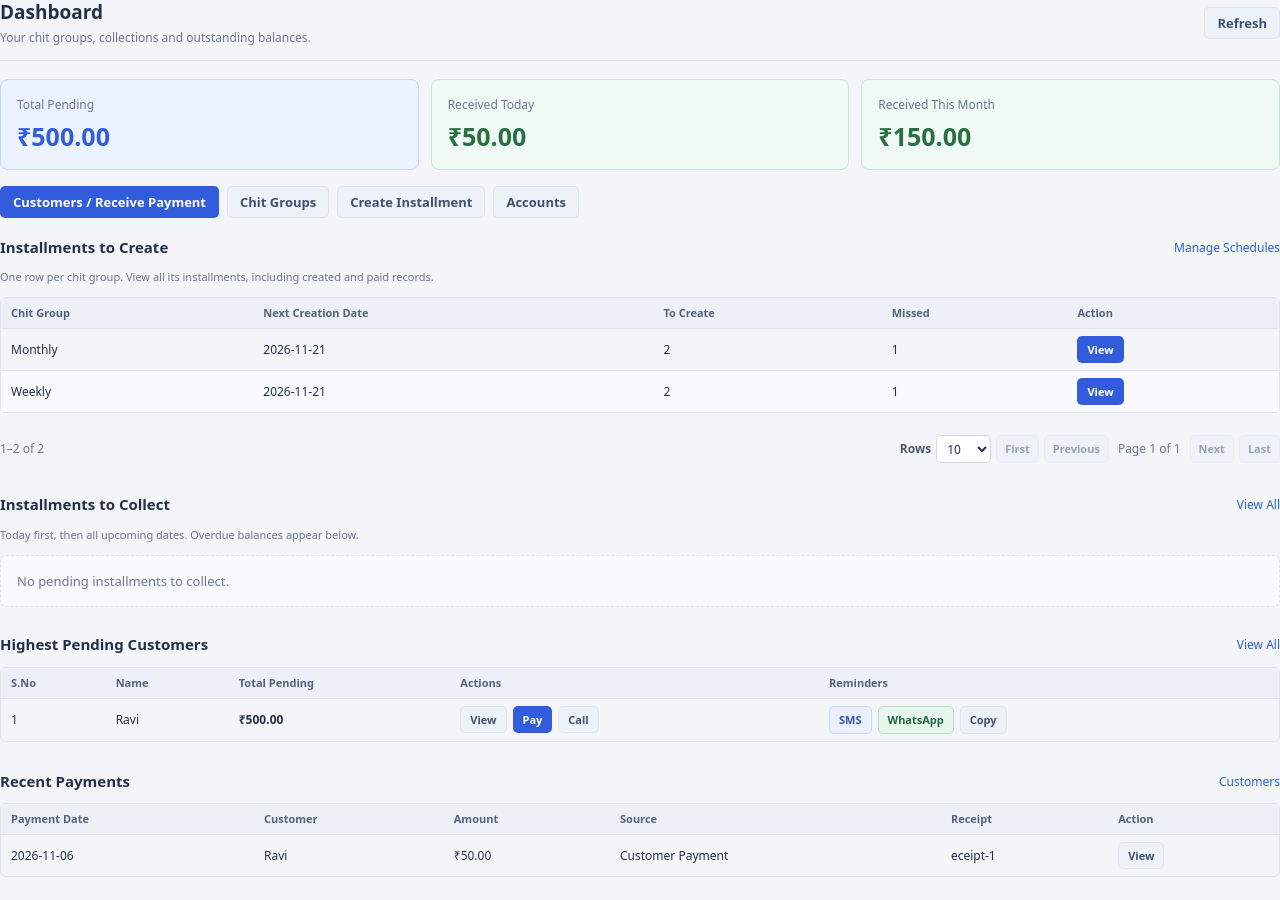
Scenario: switching groups shows only the selected group with local pagination
Click the button with aria-label "View installments for Weekly" at coordinates (1101, 392), box [1078, 378, 1124, 405]
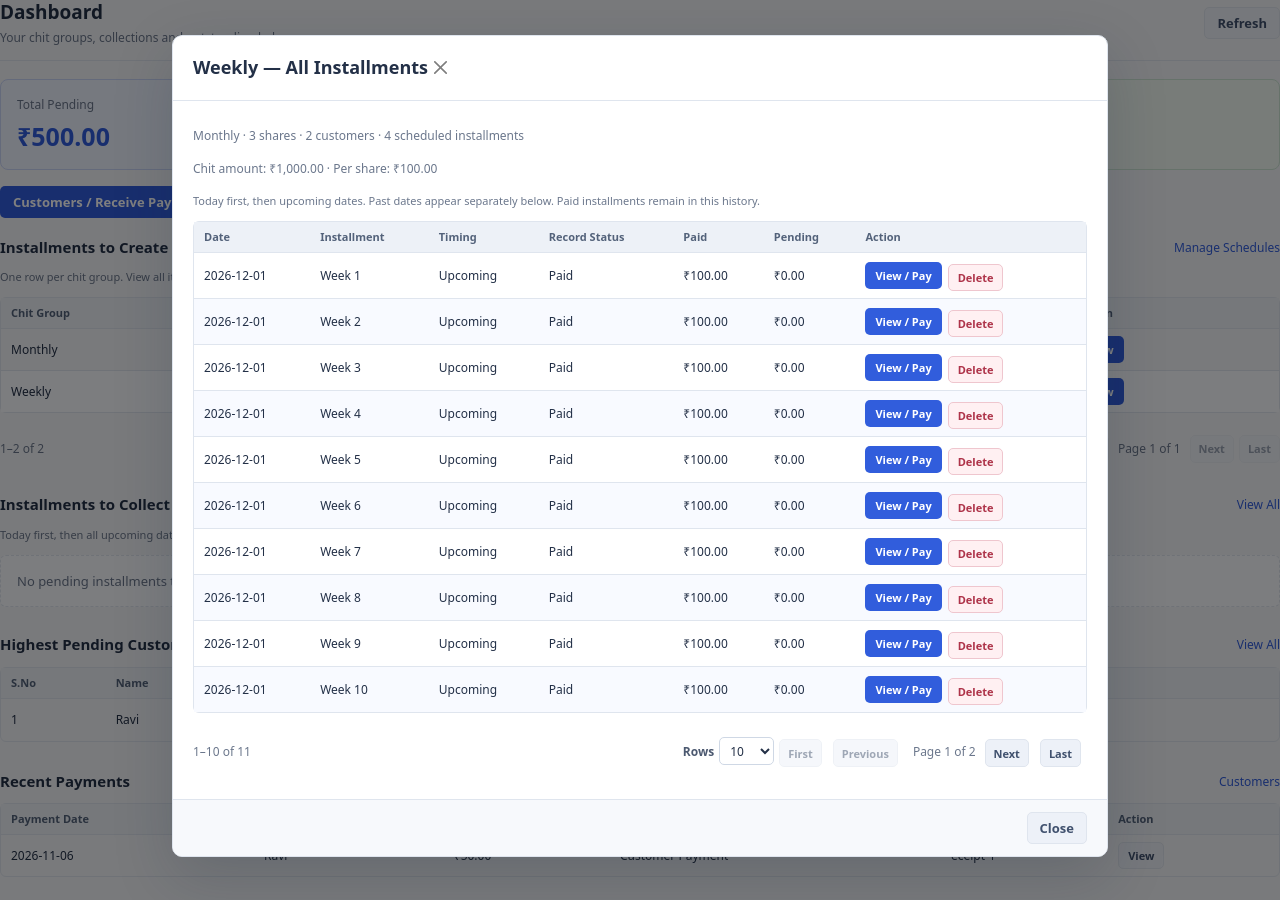
Click the button with aria-label "Group installments: next page" at coordinates (1007, 753), box [984, 739, 1029, 767]
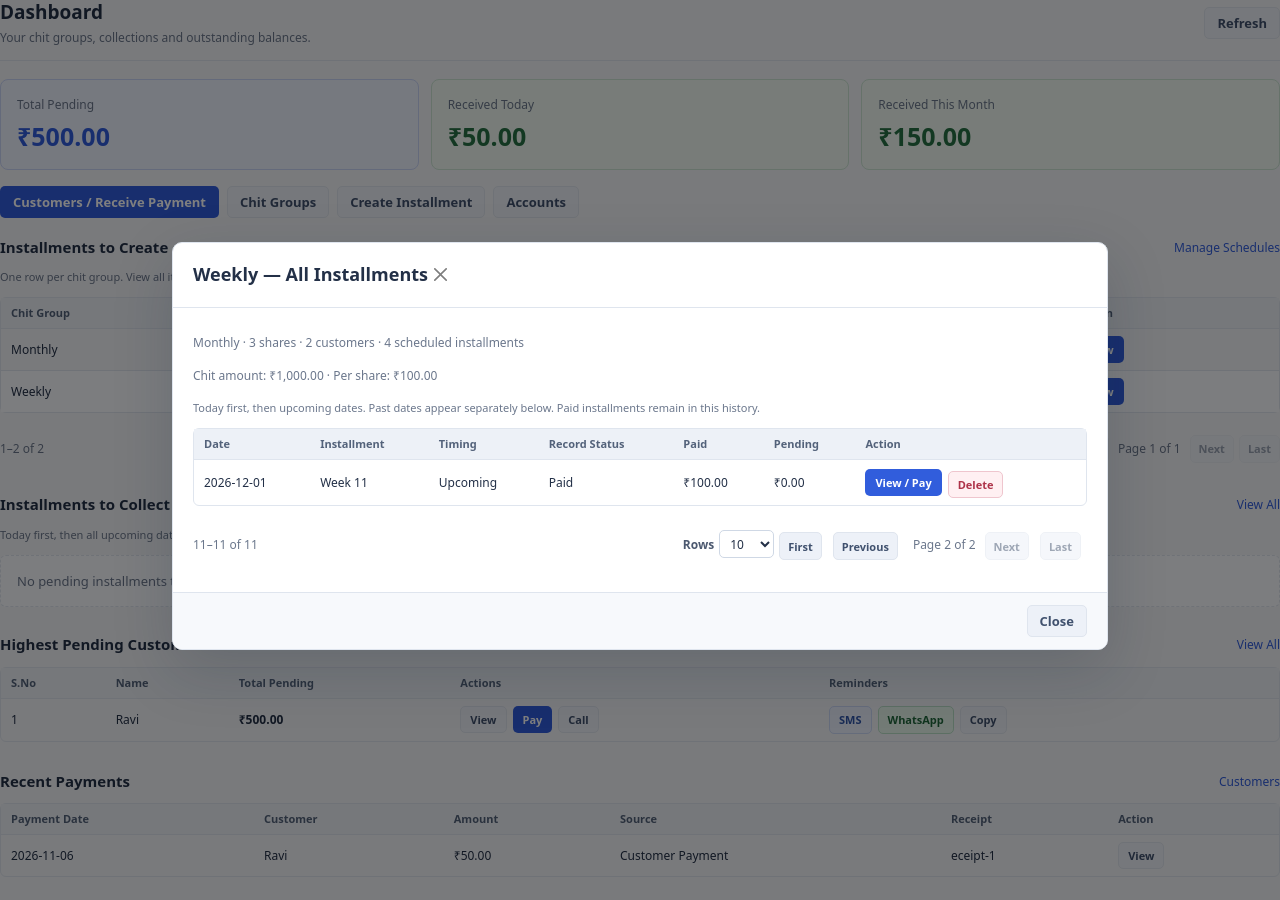
Result: the text "Week 11" is shown at [310, 460, 429, 505]
